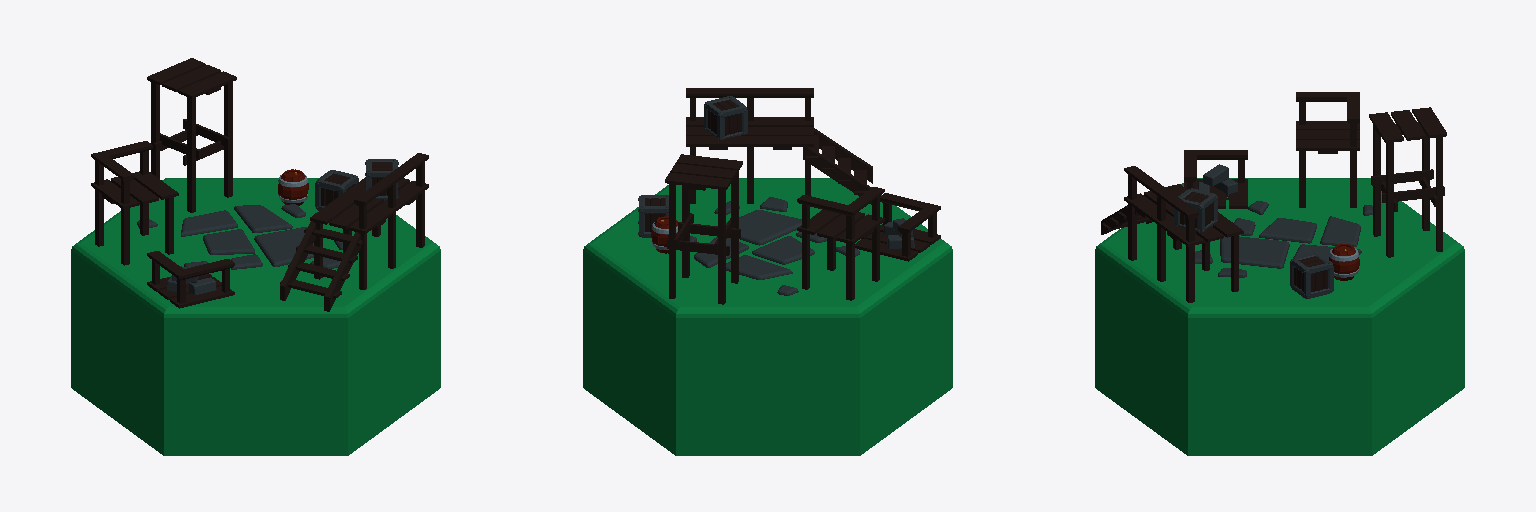
File: scaffolding.obj
3 views of the same model, side by side, from view 1: azimuth 30°, elevation 25°; view 2: azimuth 150°, elevation 25°; view 3: azimuth 270°, elevation 25° (orthographic).
Visible parts, largest first — view 1: mergedBlocks; view 2: mergedBlocks; view 3: mergedBlocks.
Boxes of the visible parts, box(x1,y1,x2,y2) form: mergedBlocks: box(71, 58, 440, 455); mergedBlocks: box(583, 88, 952, 455); mergedBlocks: box(1095, 92, 1464, 455).
Size of the model in its own units: 2 by 1.82 by 2.31.